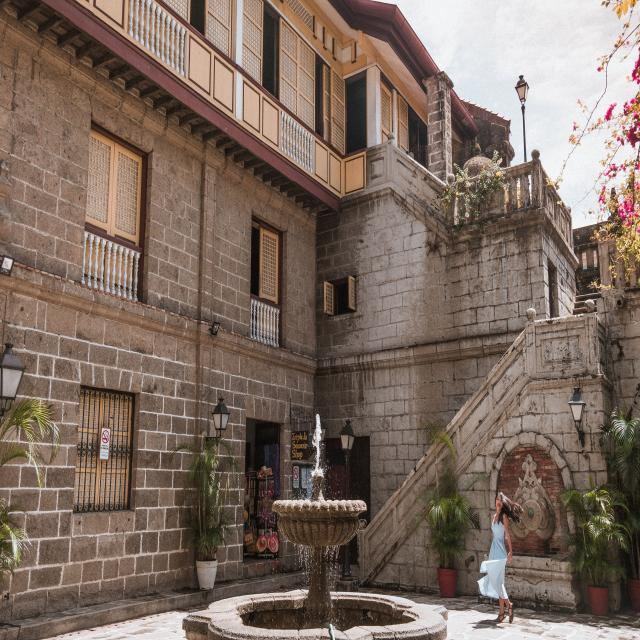Casa Manila: (1, 0, 640, 640)
